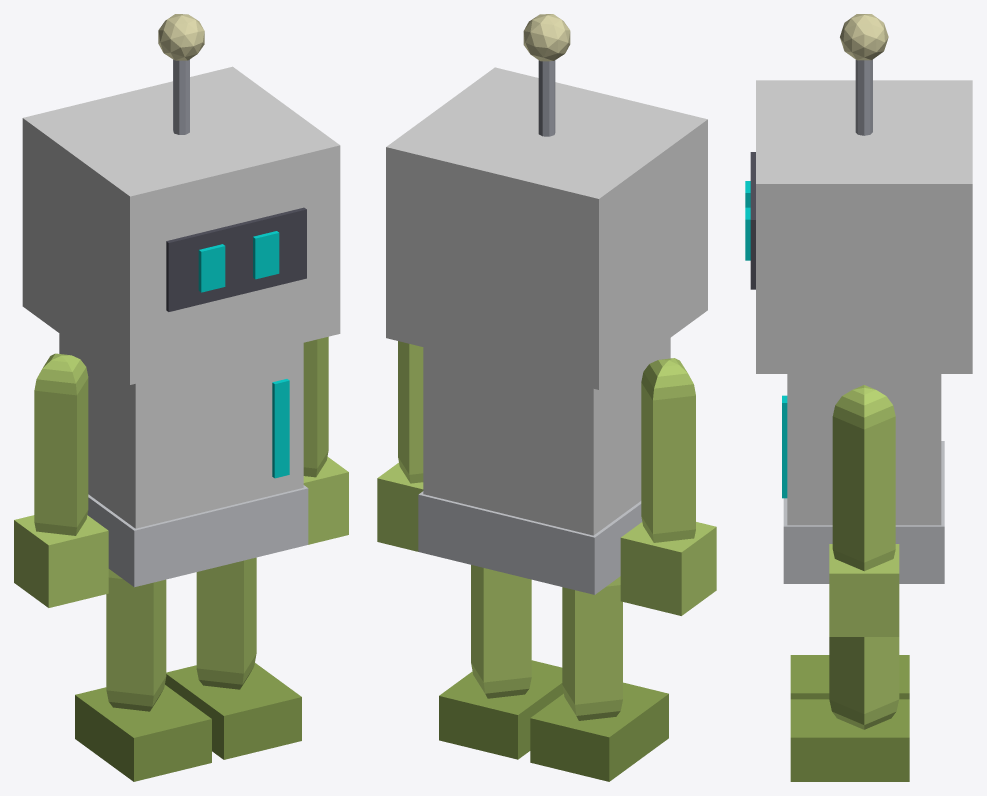
Rendered from robot_lime.glb.
3 views of the same model, side by side, from view 1: azimuth 30°, elevation 25°; view 2: azimuth 150°, elevation 25°; view 3: azimuth 270°, elevation 25° (orthographic).
Visible parts, largest first — view 1: geometry_0; view 2: geometry_0; view 3: geometry_0.
Boxes of the visible parts, x1,y1,x2,y2 form: geometry_0: (14,14,348,781); geometry_0: (377,14,716,781); geometry_0: (745,14,972,781).
Bounding box in the file's own units: 1 × 2.29 × 0.65.
